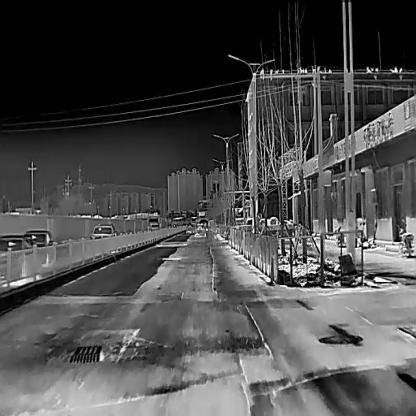car: (0, 236, 37, 278), (23, 230, 52, 266), (89, 223, 116, 244), (148, 217, 158, 232), (194, 224, 205, 236), (186, 223, 195, 233)
